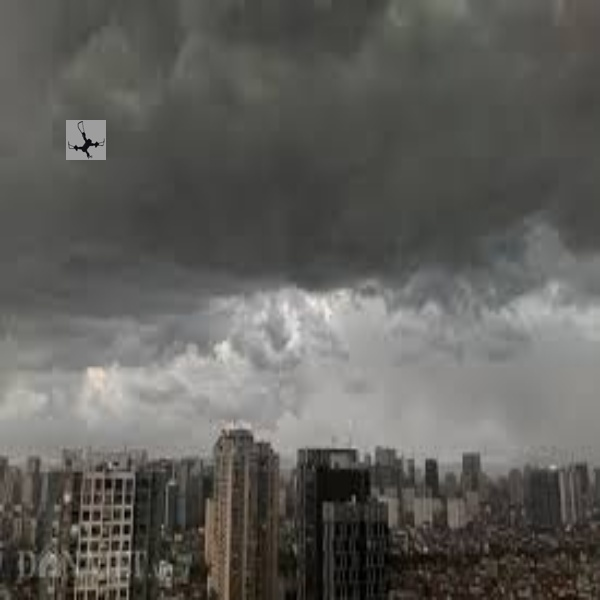drone: (61, 118, 110, 163)
